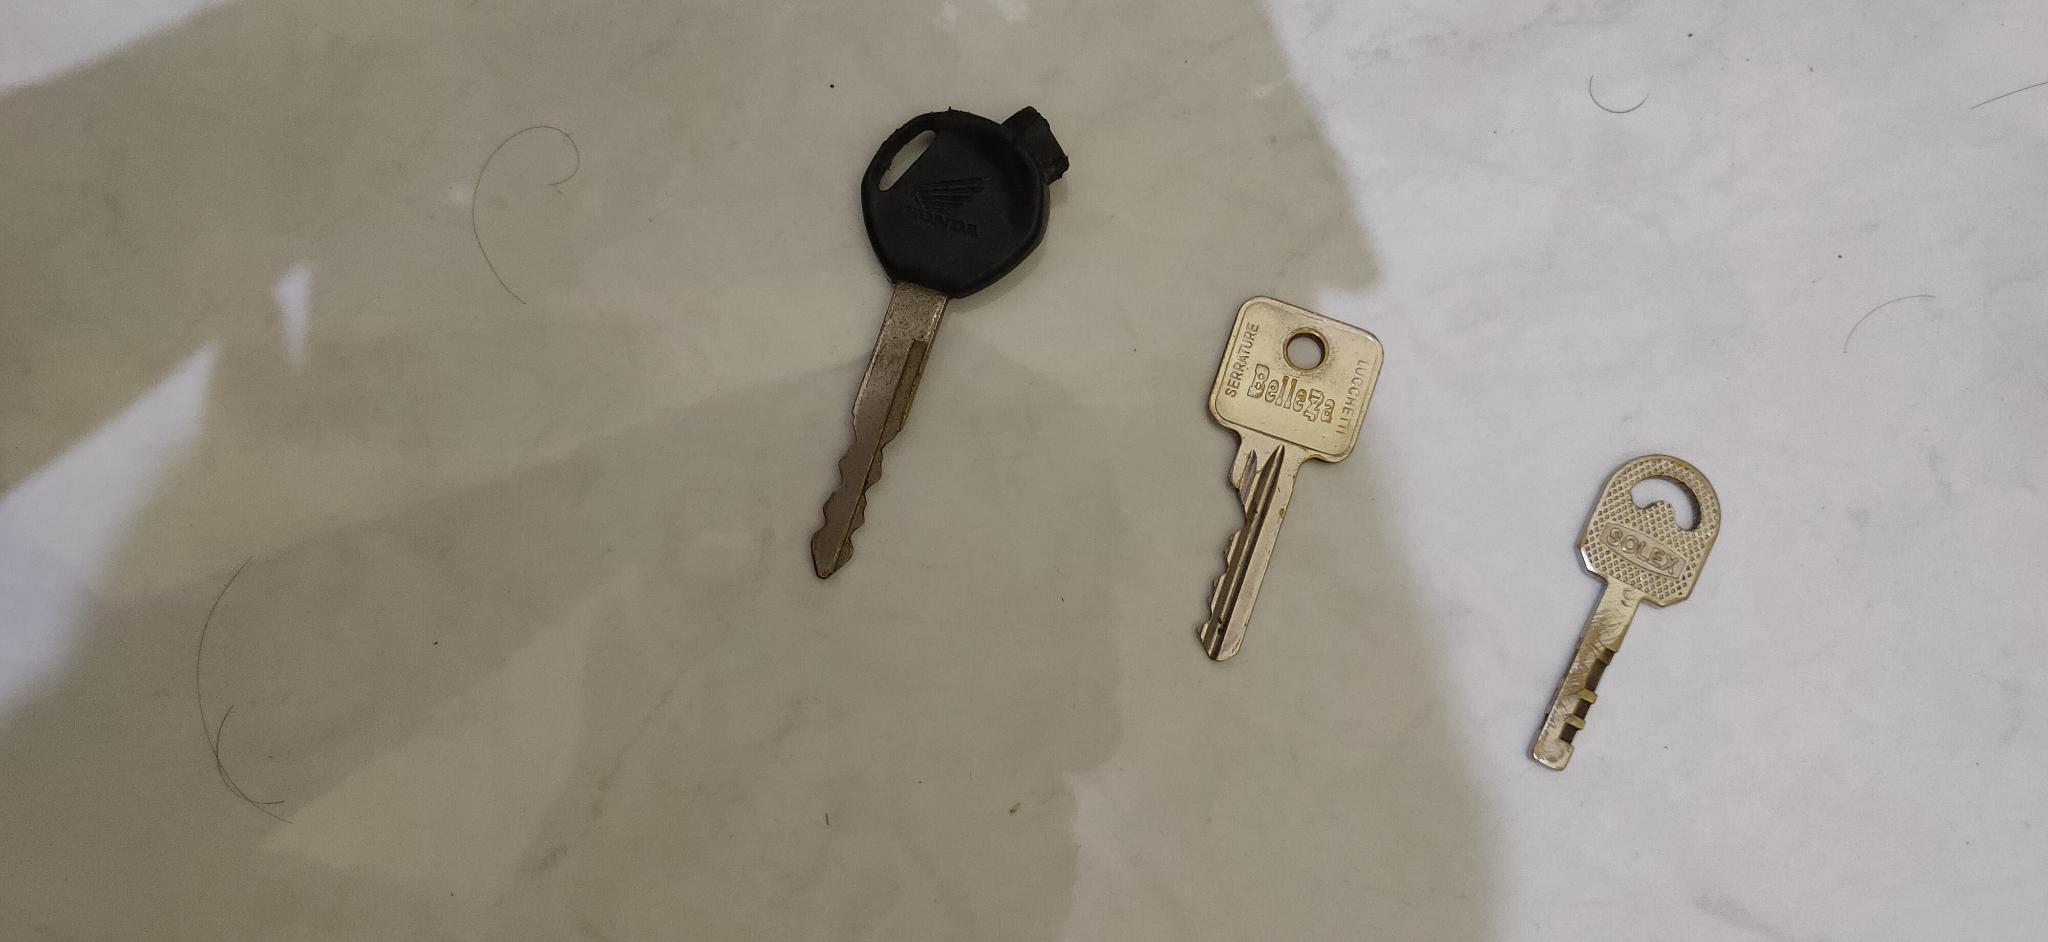keys: (805, 78, 1070, 597), (1179, 284, 1391, 668), (1518, 446, 1731, 797)
